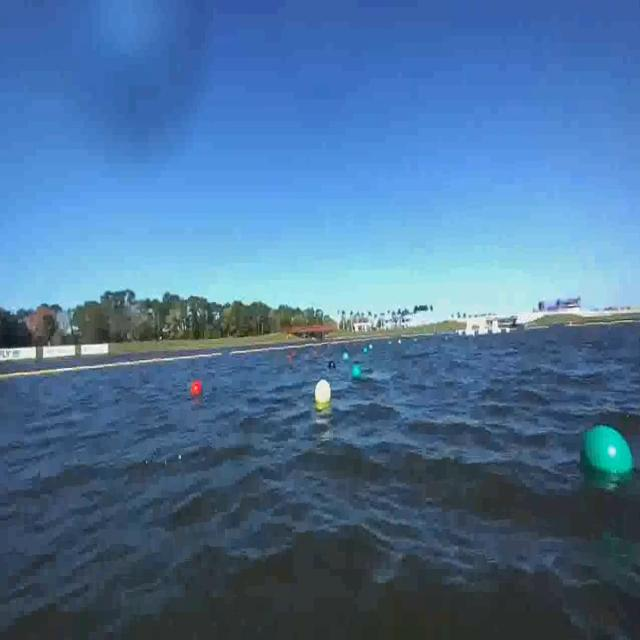black-buoy: (328, 362, 336, 369)
green-buoy: (578, 426, 633, 488), (351, 362, 362, 380)
red-buoy: (192, 378, 204, 394)
yellow-buoy: (314, 378, 331, 405)
